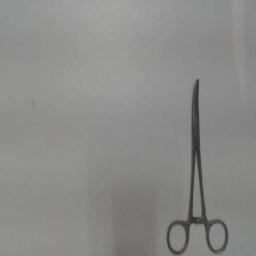Crile Artery Forceps: (164, 74, 234, 256)
